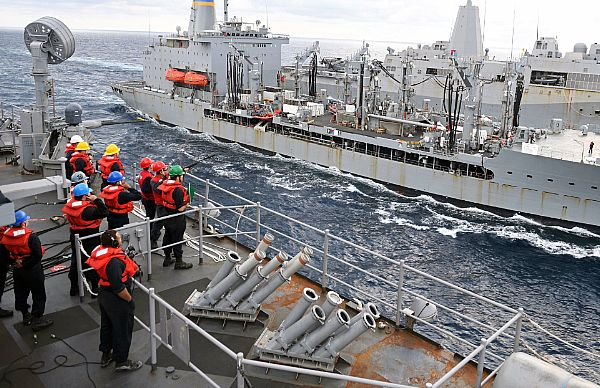rust: (393, 327, 427, 351), (530, 83, 581, 99), (325, 146, 343, 170), (291, 273, 313, 287), (366, 157, 380, 177), (451, 175, 464, 195), (253, 129, 262, 147), (152, 111, 161, 118)
